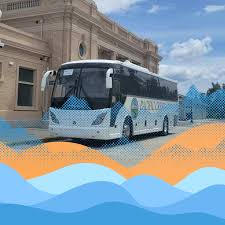bus: (38, 59, 182, 144)
